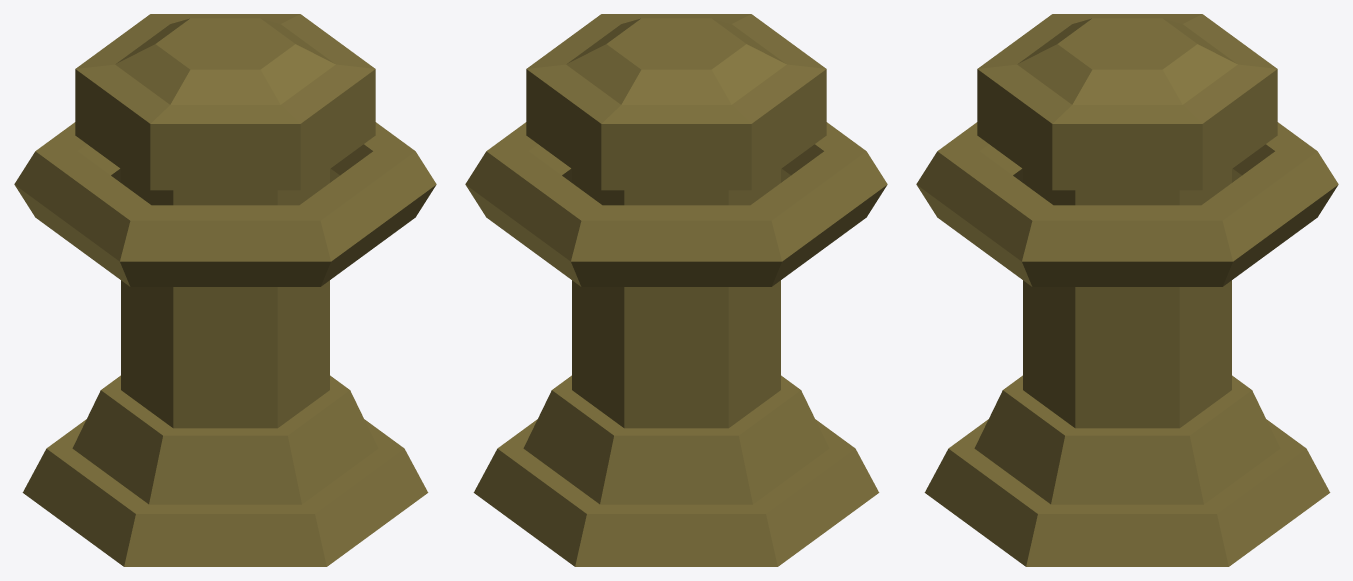
Rendered from ElectricTower.glb.
The picture shows the model from 3 angles, left to right: view 1: azimuth 30°, elevation 25°; view 2: azimuth 150°, elevation 25°; view 3: azimuth 270°, elevation 25°; orthographic projection.
Parts seen in each view (by area): view 1: Base, Torus; view 2: Base, Torus; view 3: Base, Torus.
Part boxes in pixels (left/top/right/bottom): Base: left=22, top=14, right=428, bottom=566; Torus: left=14, top=122, right=436, bottom=286; Base: left=473, top=14, right=879, bottom=566; Torus: left=465, top=122, right=887, bottom=286; Base: left=924, top=14, right=1330, bottom=566; Torus: left=916, top=122, right=1338, bottom=286.
Bounding box in the file's own units: 1.8 × 2.44 × 2.08.
1 material, 1 textured.
